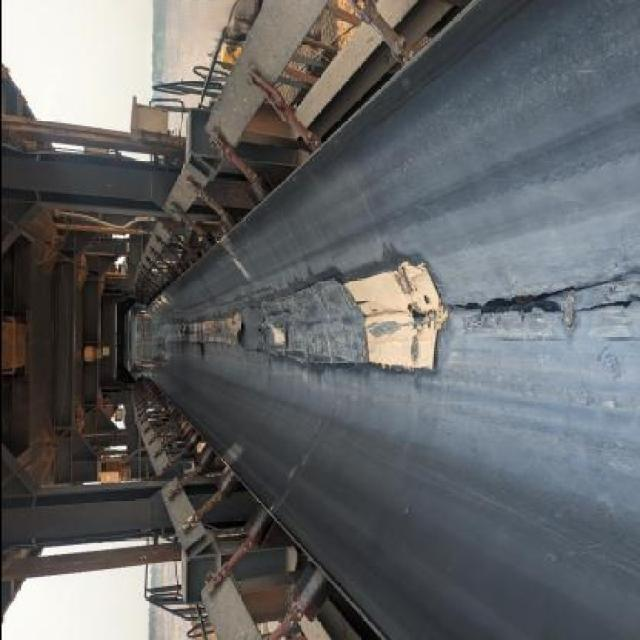Hole: (400, 301, 432, 330)
Tear: (446, 267, 640, 333)
